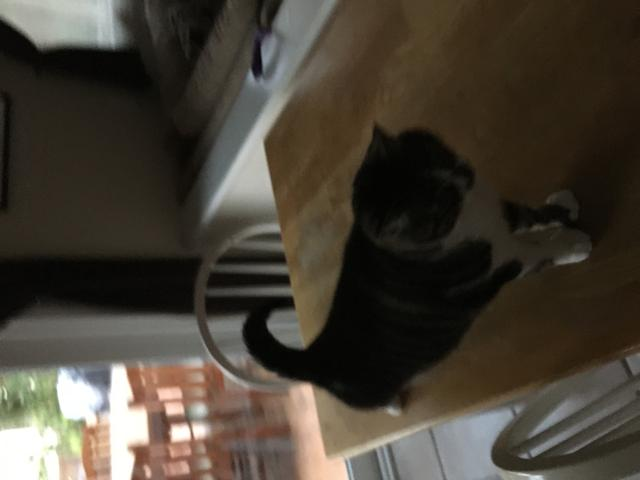playdoh: (244, 118, 590, 416)
